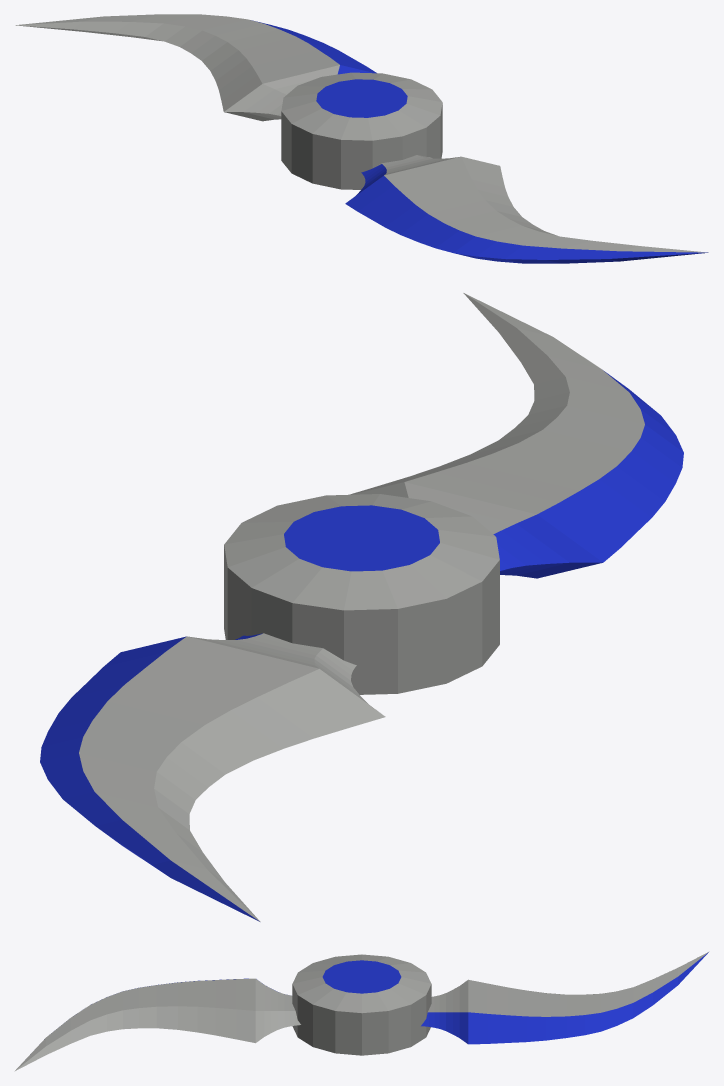
Rendered from Beyblade_Basic_Blade_Water.fbx.
3 renders of one model, top to bottom at view 1: azimuth 30°, elevation 25°; view 2: azimuth 150°, elevation 25°; view 3: azimuth 270°, elevation 25°, orthographic. The views are drawn at different scales.
Parts seen in each view (by area): view 1: Circle.001; view 2: Circle.001; view 3: Circle.001.
Part boxes in pixels (x1,y1,x2,y2): Circle.001: (15,14,708,263); Circle.001: (40,293,683,921); Circle.001: (14,951,709,1071).
Bounding box in the file's own units: 162 × 35.77 × 394.
Materials: 1 (1 with a texture image).
